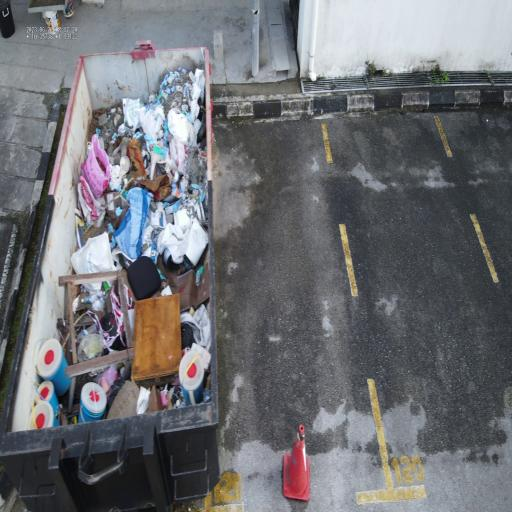Empty: (191, 107, 399, 512)
